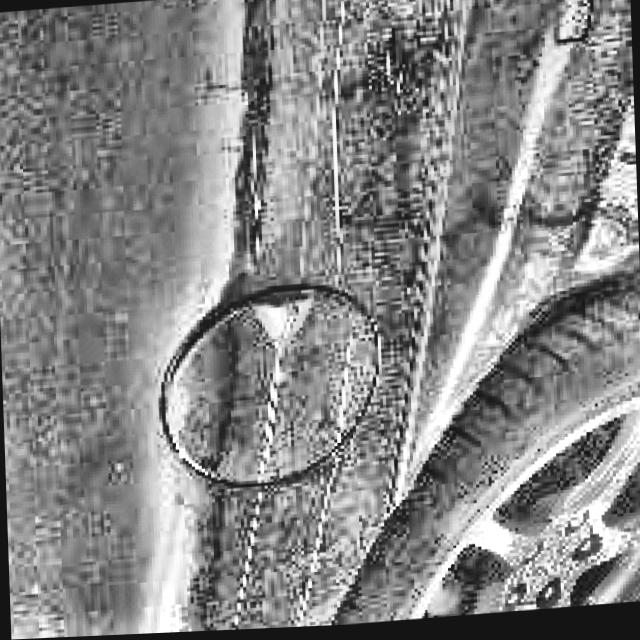door_scratch: (202, 335, 374, 631), (231, 0, 371, 275)
